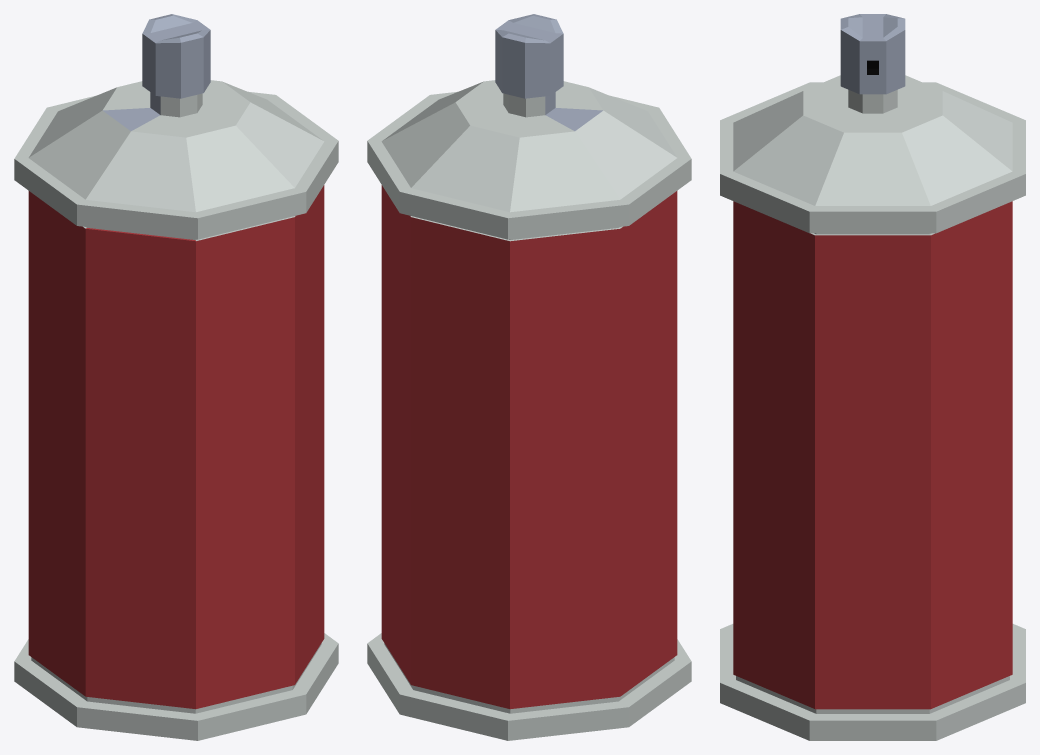
Rendered from Spray_box.fbx.
3 views of the same model, side by side, from view 1: azimuth 30°, elevation 25°; view 2: azimuth 150°, elevation 25°; view 3: azimuth 270°, elevation 25° (orthographic).
Visible parts, largest first — view 1: Cylinder.007; view 2: Cylinder.007; view 3: Cylinder.007.
Part boxes in pixels (x1,y1,x2,y2): Cylinder.007: [14, 14, 338, 740]; Cylinder.007: [367, 14, 691, 740]; Cylinder.007: [720, 14, 1025, 740].
Size of the model in its own units: 26.52 by 62.54 by 26.52.
